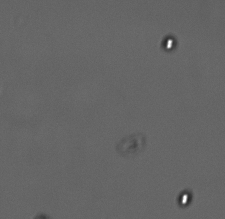Dead Cell: (117, 133, 148, 157)
Living Cell: (160, 34, 180, 51), (177, 188, 194, 208)
